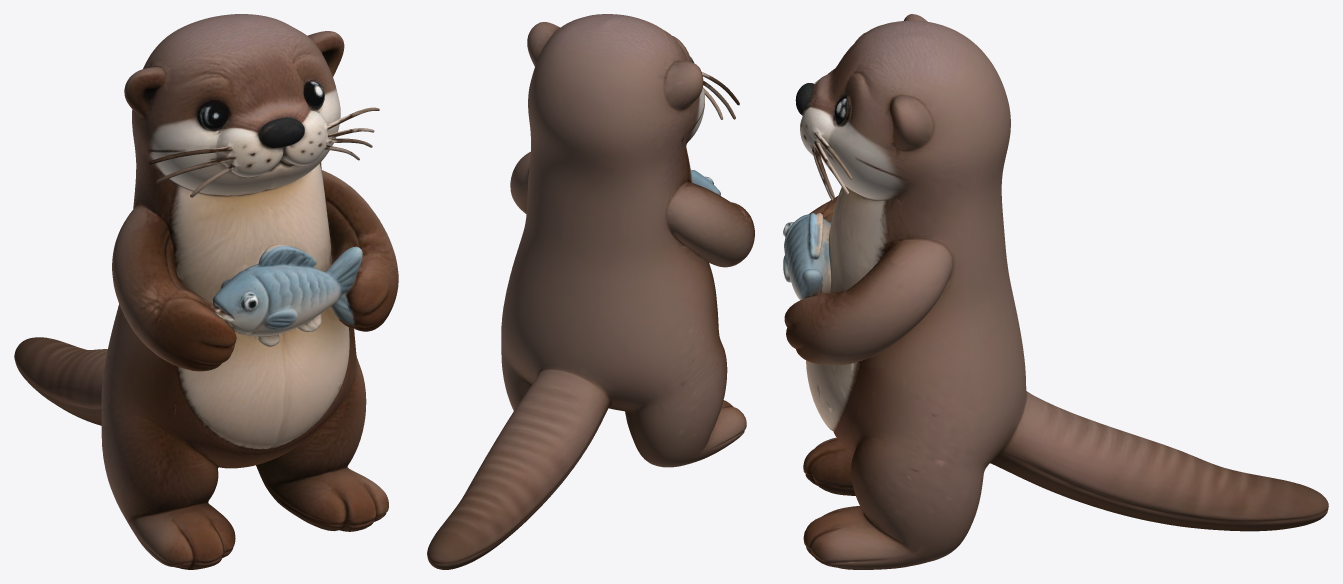
The model's file is otter.glb.
3 renders of one model, left to right at view 1: azimuth 30°, elevation 25°; view 2: azimuth 150°, elevation 25°; view 3: azimuth 270°, elevation 25°, orthographic. The views are drawn at different scales.
Visible parts, largest first — view 1: node_0; view 2: node_0; view 3: node_0.
Boxes of the visible parts, bbox=[...] form: node_0: bbox=[14, 14, 398, 569]; node_0: bbox=[427, 14, 754, 569]; node_0: bbox=[783, 14, 1328, 569].
Size of the model in its own units: 0.4765 by 0.8772 by 0.8767.
Materials: 1 (1 with a texture image).
